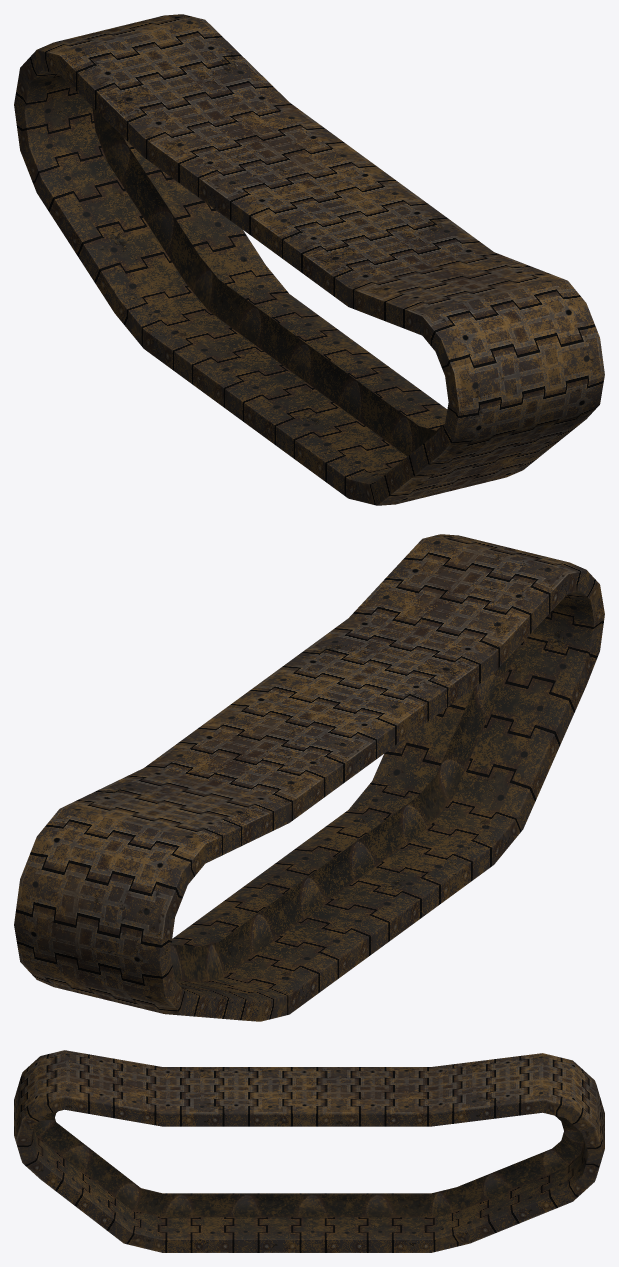
Rendered from MediumTank04_track.fbx.
The picture shows the model from 3 angles, top to bottom: view 1: azimuth 30°, elevation 25°; view 2: azimuth 150°, elevation 25°; view 3: azimuth 270°, elevation 25°; orthographic projection. The views are drawn at different scales.
Visible parts, largest first — view 1: MediumTank04_track; view 2: MediumTank04_track; view 3: MediumTank04_track.
Part boxes in pixels (x1,y1,x2,y2): MediumTank04_track: (14,14,604,505); MediumTank04_track: (14,534,604,1021); MediumTank04_track: (14,1050,604,1252).
Bounding box in the file's own units: 0.8911 × 1.41 × 4.75.
